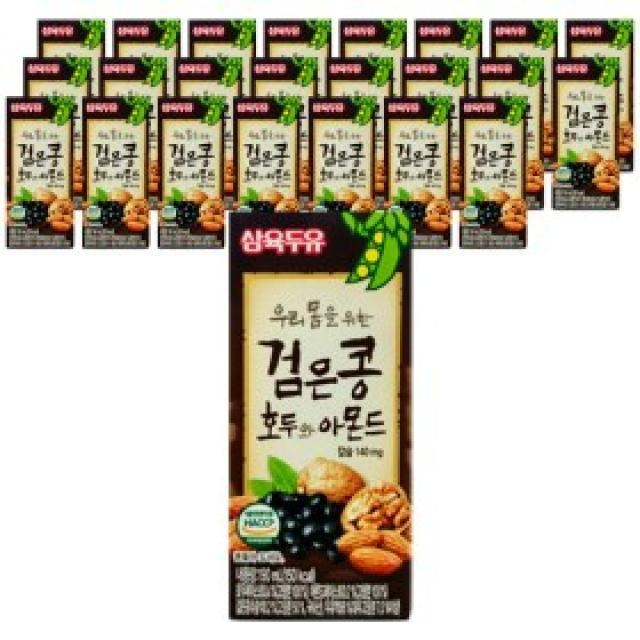Tetra: (228, 210, 416, 620), (150, 89, 234, 257), (84, 92, 158, 268), (456, 90, 530, 260), (546, 50, 622, 212), (0, 92, 74, 258), (378, 96, 452, 256), (232, 89, 302, 202), (308, 94, 370, 210)
